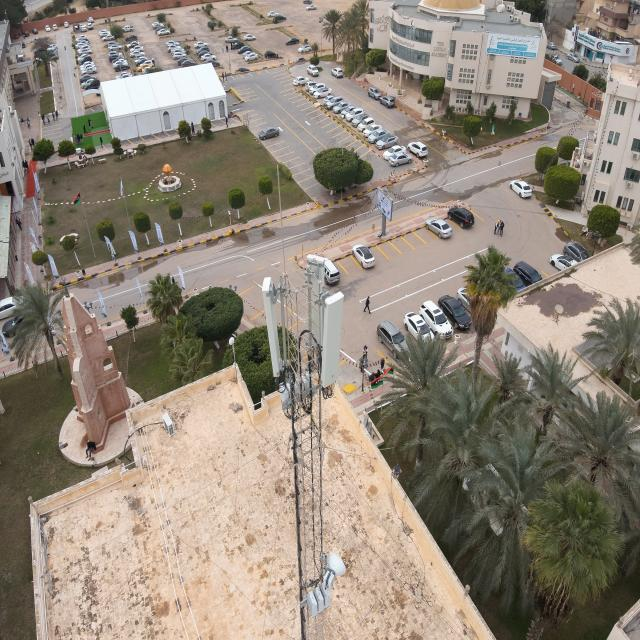antenna: (318, 287, 346, 389), (261, 270, 285, 380), (302, 250, 324, 349)
lighnig-rad: (274, 157, 290, 320)
microware-dish: (326, 550, 346, 592)
power-box: (304, 582, 332, 624)
